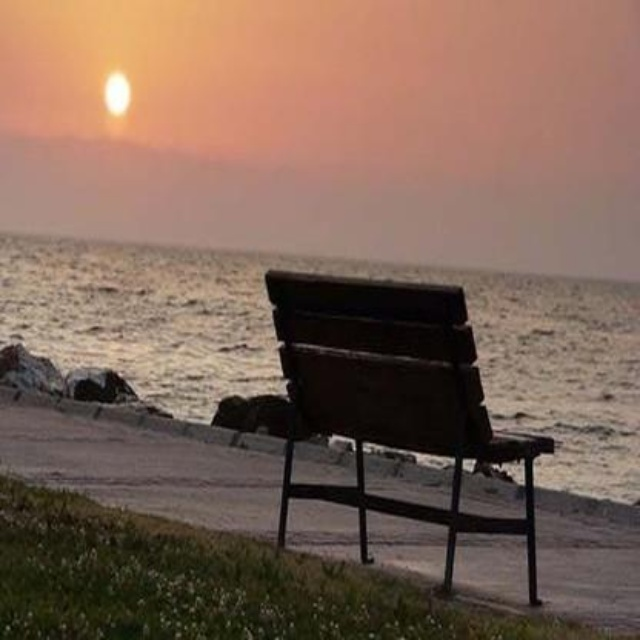obstacle: (225, 243, 574, 615)
